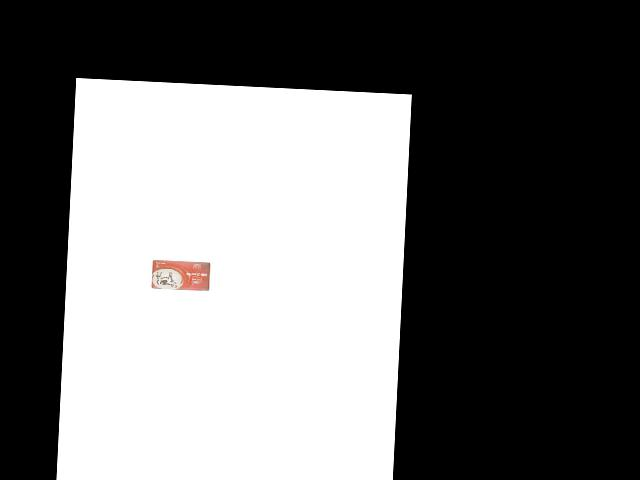chocolate: (151, 258, 212, 291)
